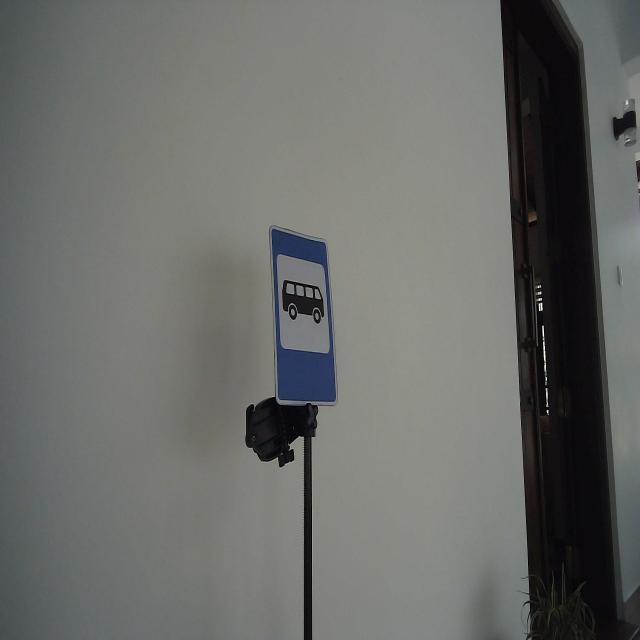bus_stop: (266, 220, 341, 408)
